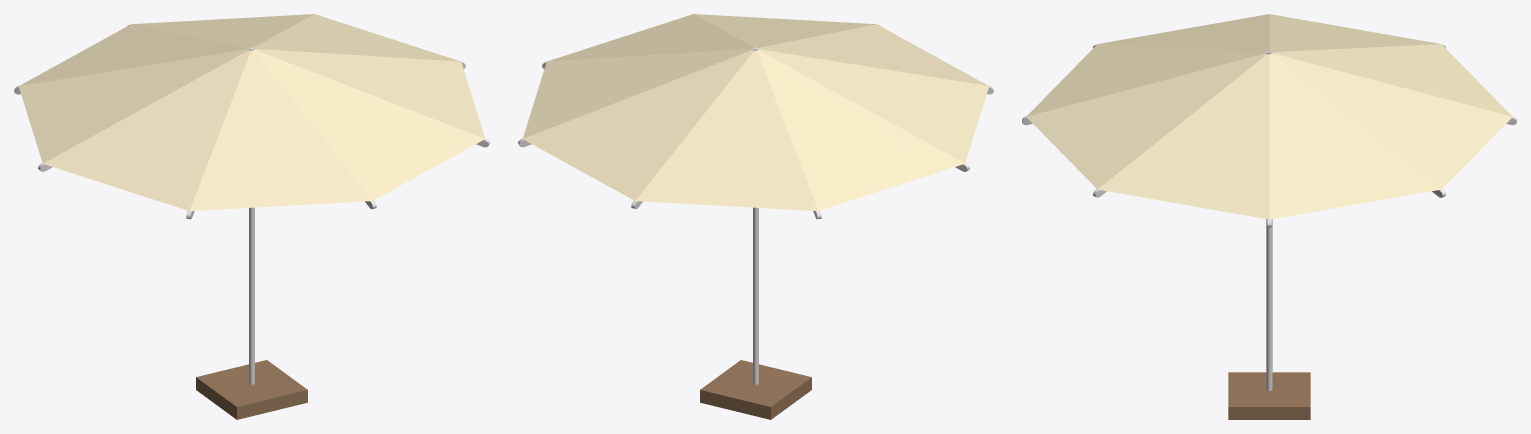
The model's file is sombrilla.FBX.
3 views of the same model, side by side, from view 1: azimuth 30°, elevation 25°; view 2: azimuth 150°, elevation 25°; view 3: azimuth 270°, elevation 25° (orthographic).
Visible parts, largest first — view 1: Model; view 2: Model; view 3: Model.
Part boxes in pixels (x1,y1,x2,y2): Model: (14, 14, 489, 419); Model: (518, 14, 993, 419); Model: (1022, 14, 1516, 419).
Size of the model in its own units: 118 by 92.35 by 118.
